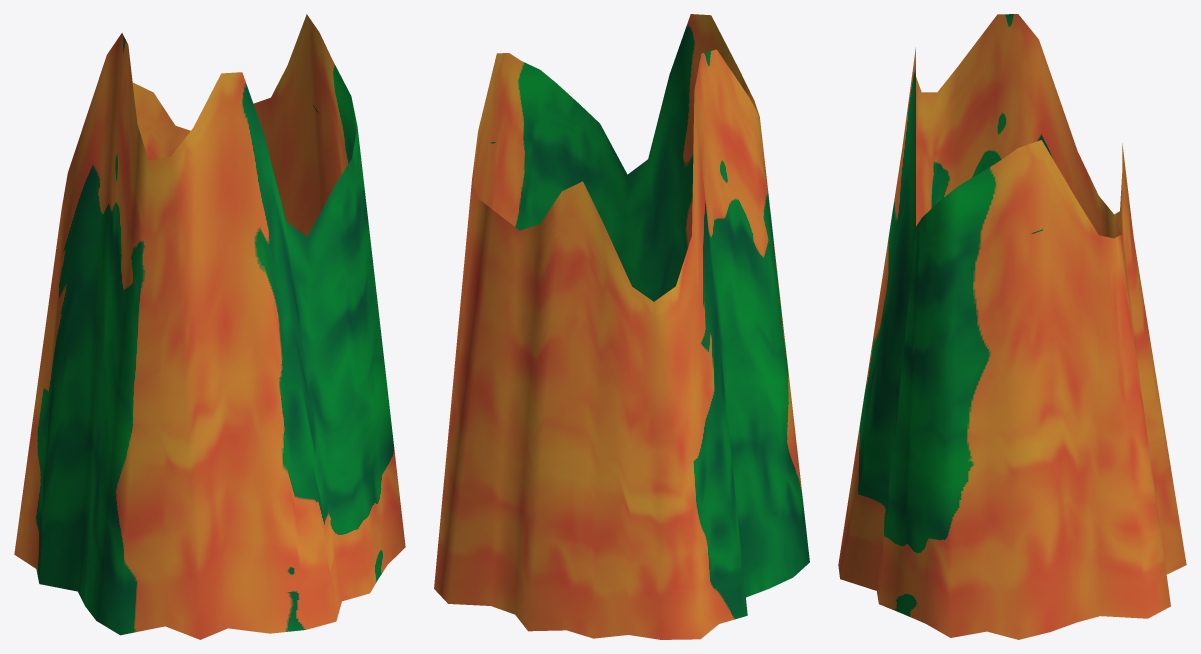
Rendered from p_mesh_trashbot_flowspray_pose1.fbx.
The picture shows the model from 3 angles, left to right: view 1: azimuth 30°, elevation 25°; view 2: azimuth 150°, elevation 25°; view 3: azimuth 270°, elevation 25°; orthographic projection. The views are drawn at different scales.
Visible parts, largest first — view 1: p_mesh_growlab_trashgooflow_pose1; view 2: p_mesh_growlab_trashgooflow_pose1; view 3: p_mesh_growlab_trashgooflow_pose1.
Part boxes in pixels (bbox=[...]): p_mesh_growlab_trashgooflow_pose1: bbox=[14, 14, 405, 639]; p_mesh_growlab_trashgooflow_pose1: bbox=[434, 14, 809, 639]; p_mesh_growlab_trashgooflow_pose1: bbox=[838, 14, 1186, 639].
Bounding box in the file's own units: 15.97 × 26.4 × 16.29.
